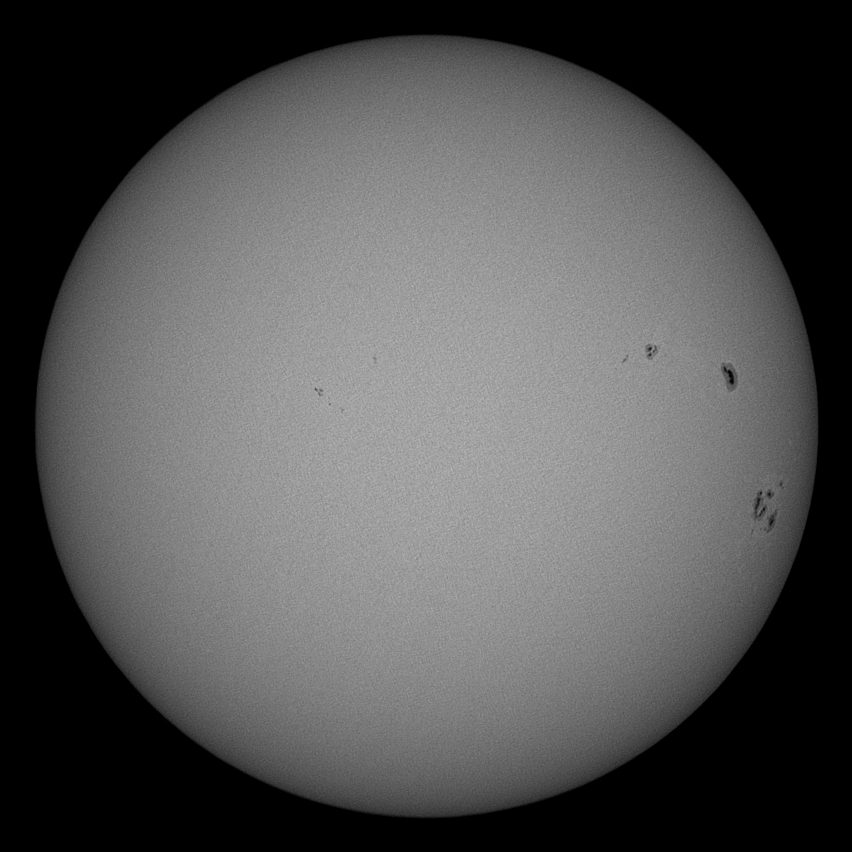sunspot: (750, 479, 780, 533), (719, 360, 741, 390), (643, 340, 660, 362)
